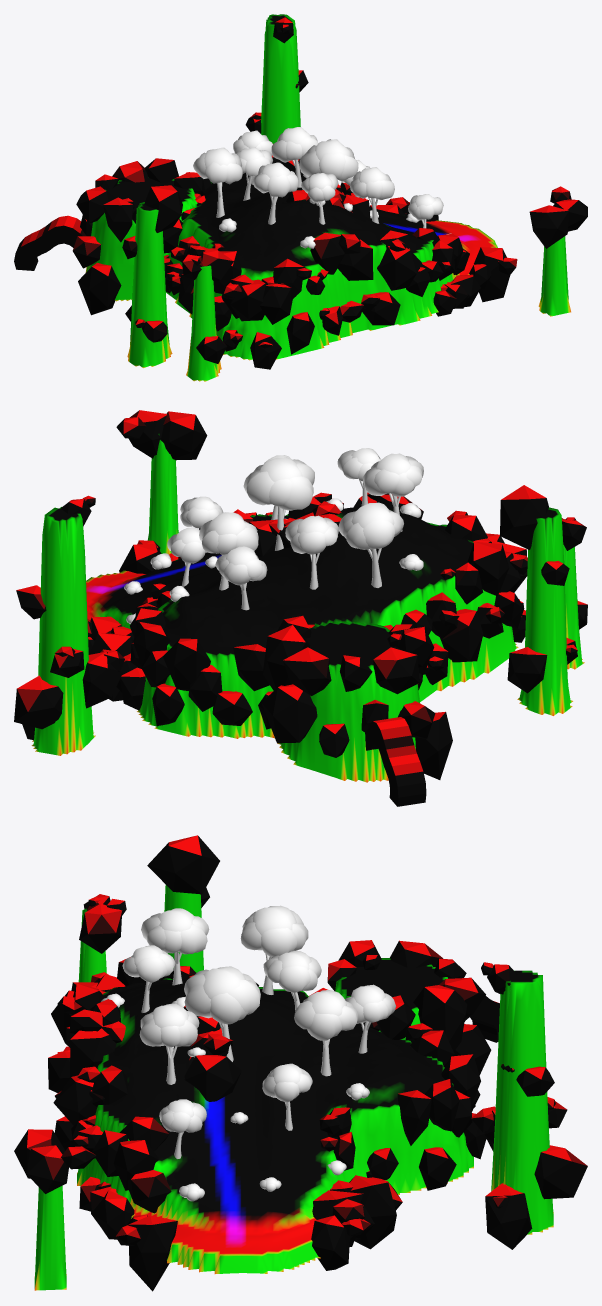
The model's file is test_island.glb.
3 views of the same model, one above another, from view 1: azimuth 30°, elevation 25°; view 2: azimuth 150°, elevation 25°; view 3: azimuth 270°, elevation 25° (orthographic). The views are drawn at different scales.
Visible parts, largest first — view 1: SM_TestIsland; view 2: SM_TestIsland; view 3: SM_TestIsland.
Boxes of the visible parts, x1=… form: SM_TestIsland: x1=14, y1=14, x2=587, y2=381; SM_TestIsland: x1=14, y1=410, x2=587, y2=806; SM_TestIsland: x1=14, y1=835, x2=587, y2=1291.
Size of the model in its own units: 59.55 by 28.01 by 54.22.
